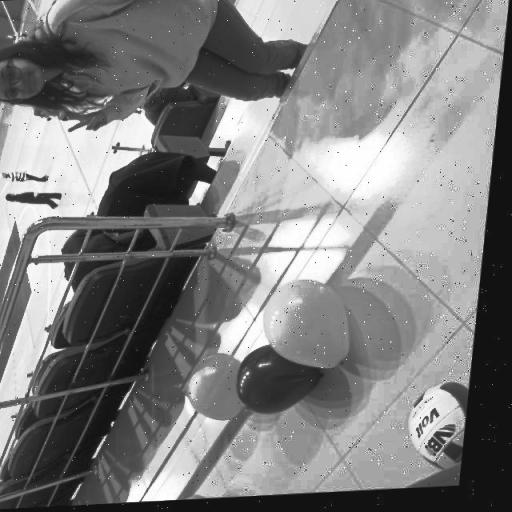balloon: (266, 279, 367, 372), (242, 346, 336, 418), (192, 356, 254, 426)
